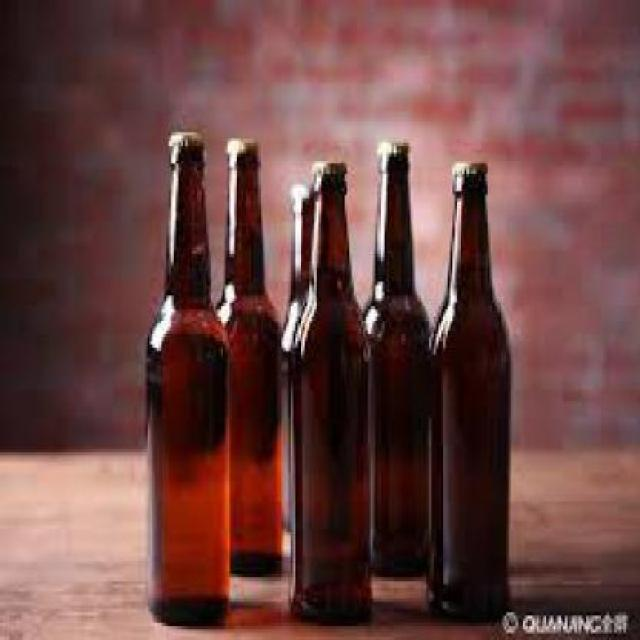kaca: (143, 143, 232, 619), (288, 174, 370, 618), (425, 168, 506, 615), (214, 154, 283, 574), (364, 154, 428, 574), (280, 195, 315, 536)
